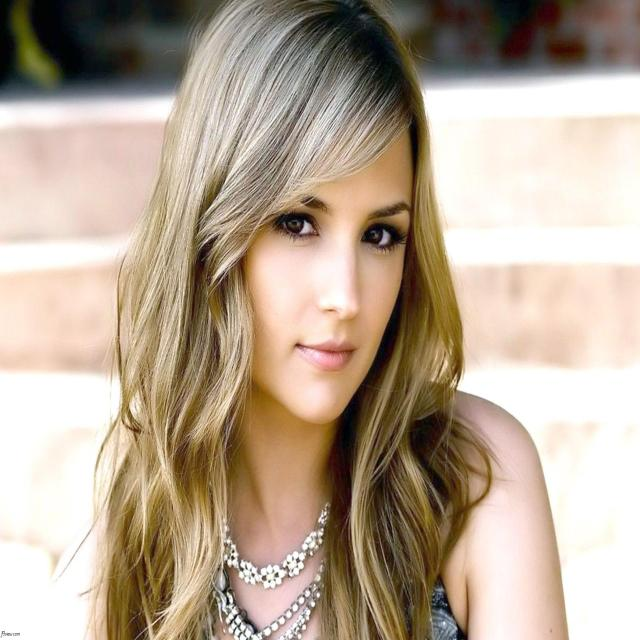mobile_phonerotation: (62, 1, 569, 638)
